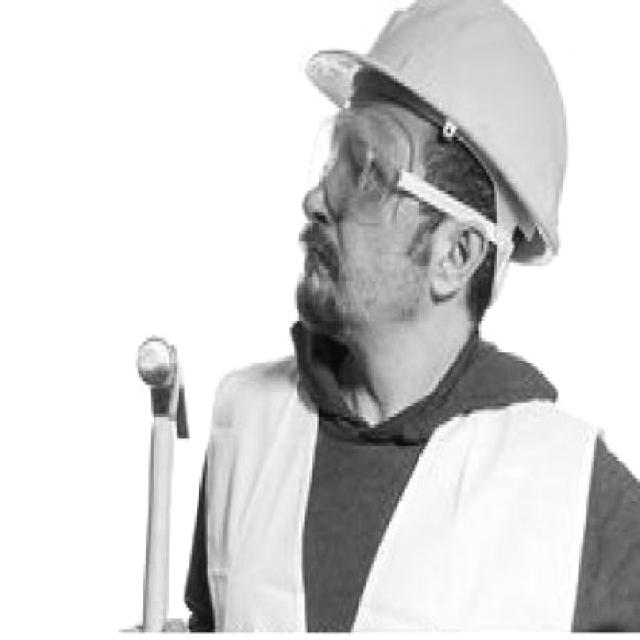face_nomask: (289, 123, 406, 302)
glasses: (302, 108, 412, 223)
head_helmet: (308, 0, 587, 255)
person: (180, 0, 634, 628)
vest: (194, 344, 612, 631)
